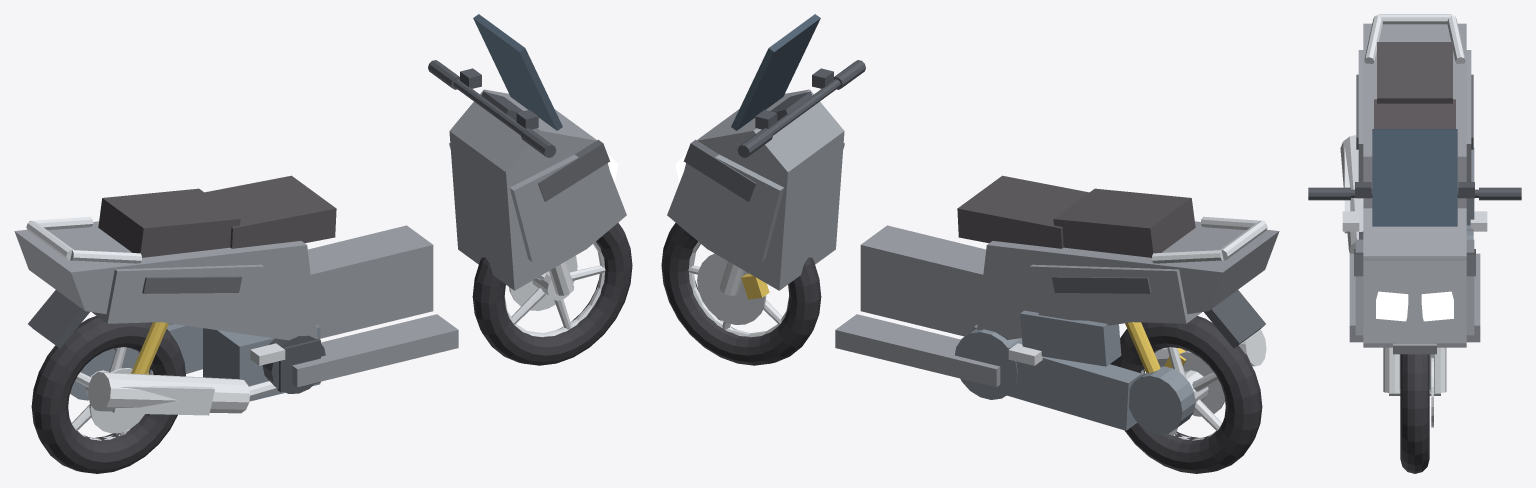
The model's file is yamaha-xmax-250-connected-2023-2026.glb.
3 views of the same model, side by side, from view 1: azimuth 30°, elevation 25°; view 2: azimuth 150°, elevation 25°; view 3: azimuth 270°, elevation 25° (orthographic). The views are drawn at different scales.
Parts seen in each view (by area): view 1: Bodi_Utama, Roda_Ban, Jok_Motor, Cover_Knalpot, Windshield_Visor, Aksen_Bodi, Velg_Roda, Mesin_Blok, Master_Rem_Stang, Cover_CVT, Behel_Jok, Cover_Radiator (+4 smaller); view 2: Bodi_Utama, Roda_Ban, Cover_CVT, Jok_Motor, Windshield_Visor, Aksen_Bodi, Master_Rem_Stang, Velg_Roda, Piringan_Depan, Behel_Jok, Spakbor_Belakang, Piringan_Belakang (+2 smaller); view 3: Bodi_Utama, Windshield_Visor, Jok_Motor, Roda_Ban, Master_Rem_Stang, Lampu_Depan, Behel_Jok, Suspensi_Depan, Cover_Knalpot, Aksen_Bodi, Footstep_Belakang, Spakbor_Depan (+1 smaller).
Boxes of the visible parts, x1=… form: Bodi_Utama: x1=14, y1=89, x2=626, y2=387; Roda_Ban: x1=31, y1=222, x2=632, y2=473; Jok_Motor: x1=98, y1=175, x2=336, y2=257; Cover_Knalpot: x1=88, y1=372, x2=277, y2=415; Windshield_Visor: x1=473, y1=14, x2=562, y2=130; Aksen_Bodi: x1=142, y1=139, x2=610, y2=293; Velg_Roda: x1=71, y1=241, x2=605, y2=440; Mesin_Blok: x1=203, y1=324, x2=320, y2=401; Master_Rem_Stang: x1=428, y1=60, x2=556, y2=157; Cover_CVT: x1=70, y1=323, x2=202, y2=400; Behel_Jok: x1=26, y1=216, x2=141, y2=263; Cover_Radiator: x1=262, y1=335, x2=325, y2=393; Bodi_Utama: x1=667, y1=89, x2=1279, y2=387; Roda_Ban: x1=661, y1=222, x2=1262, y2=473; Cover_CVT: x1=955, y1=310, x2=1195, y2=434; Jok_Motor: x1=957, y1=175, x2=1195, y2=257; Windshield_Visor: x1=731, y1=14, x2=820, y2=130; Aksen_Bodi: x1=683, y1=139, x2=1151, y2=293; Master_Rem_Stang: x1=737, y1=60, x2=865, y2=157; Velg_Roda: x1=688, y1=241, x2=1222, y2=440; Piringan_Depan: x1=697, y1=253, x2=766, y2=324; Behel_Jok: x1=1152, y1=216, x2=1267, y2=263; Spakbor_Belakang: x1=1204, y1=290, x2=1265, y2=348; Piringan_Belakang: x1=1179, y1=351, x2=1225, y2=416; Bodi_Utama: x1=1349, y1=23, x2=1480, y2=347; Windshield_Visor: x1=1372, y1=129, x2=1457, y2=226; Jok_Motor: x1=1374, y1=42, x2=1455, y2=128; Roda_Ban: x1=1400, y1=354, x2=1429, y2=473; Master_Rem_Stang: x1=1308, y1=182, x2=1521, y2=200; Lampu_Depan: x1=1376, y1=291, x2=1453, y2=321; Behel_Jok: x1=1364, y1=14, x2=1465, y2=63; Suspensi_Depan: x1=1383, y1=347, x2=1446, y2=395; Cover_Knalpot: x1=1340, y1=135, x2=1363, y2=253; Aksen_Bodi: x1=1354, y1=74, x2=1475, y2=276; Footstep_Belakang: x1=1342, y1=211, x2=1487, y2=231; Spakbor_Depan: x1=1393, y1=343, x2=1436, y2=354.
Size of the model in its own units: 2.07 by 1.14 by 0.7.
